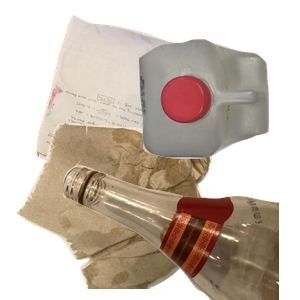glass: (60, 120, 300, 300)
paper: (33, 12, 214, 192)
plastic: (136, 37, 300, 188)
trash: (14, 120, 222, 300)
